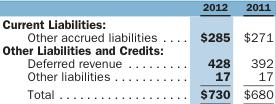table: (1, 0, 272, 101)
table column: (1, 0, 177, 101), (177, 0, 236, 101), (236, 0, 272, 101)
table column header: (1, 0, 272, 14)
table projected row header: (1, 14, 272, 30), (1, 43, 272, 56)
table row: (1, 84, 272, 101), (1, 14, 272, 30), (1, 69, 272, 84), (1, 0, 272, 14), (1, 30, 272, 43), (1, 43, 272, 56), (1, 56, 272, 69)
